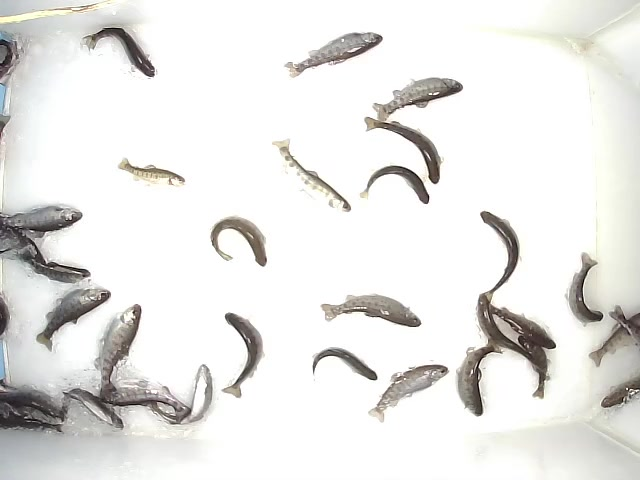fish: (474, 292, 554, 381), (272, 136, 353, 214), (363, 111, 442, 186), (365, 360, 451, 425), (31, 284, 112, 353), (284, 26, 384, 79), (91, 301, 144, 400), (371, 74, 463, 126), (144, 362, 212, 432), (217, 309, 269, 400), (79, 24, 159, 80), (479, 207, 522, 307), (316, 291, 425, 328), (455, 338, 503, 418), (102, 381, 193, 423), (482, 300, 559, 349), (208, 213, 270, 268), (564, 253, 606, 328), (359, 164, 431, 207), (57, 385, 125, 428), (309, 344, 382, 381), (116, 154, 186, 188), (22, 254, 91, 285), (1, 206, 83, 232), (516, 334, 548, 400)
